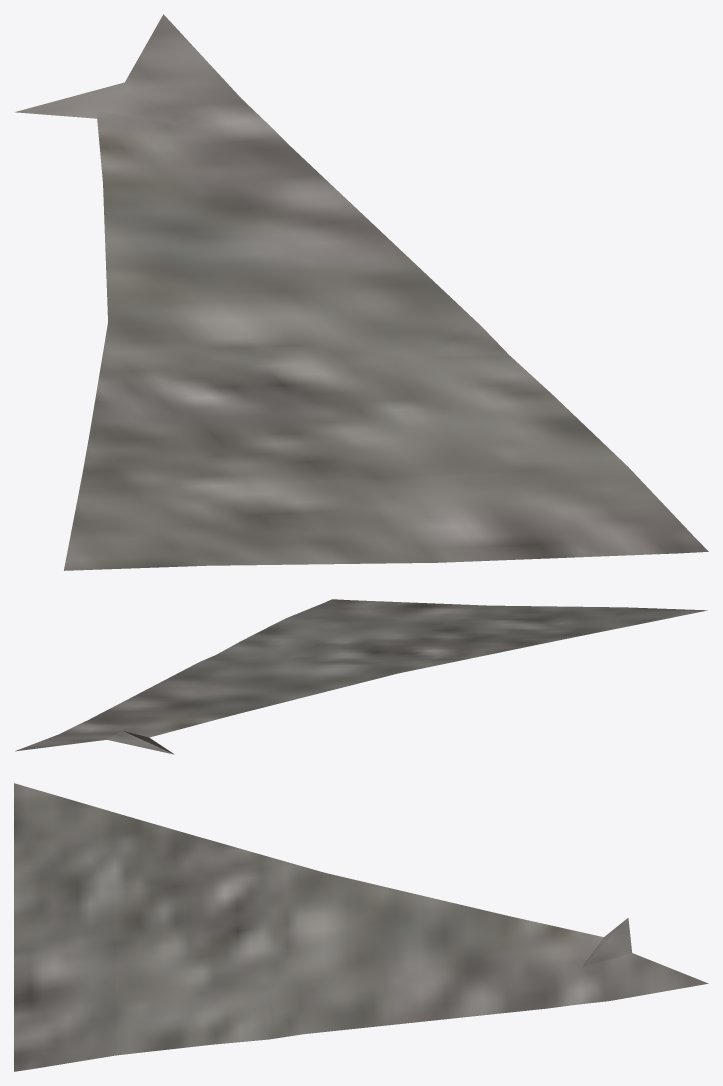
3 renders of one model, top to bottom at view 1: azimuth 30°, elevation 25°; view 2: azimuth 150°, elevation 25°; view 3: azimuth 270°, elevation 25°, orthographic. The views are drawn at different scales.
Bounding box in the file's own units: 0.1237 × 0.0254 × 0.1811.
Materials: 1 (1 with a texture image).
